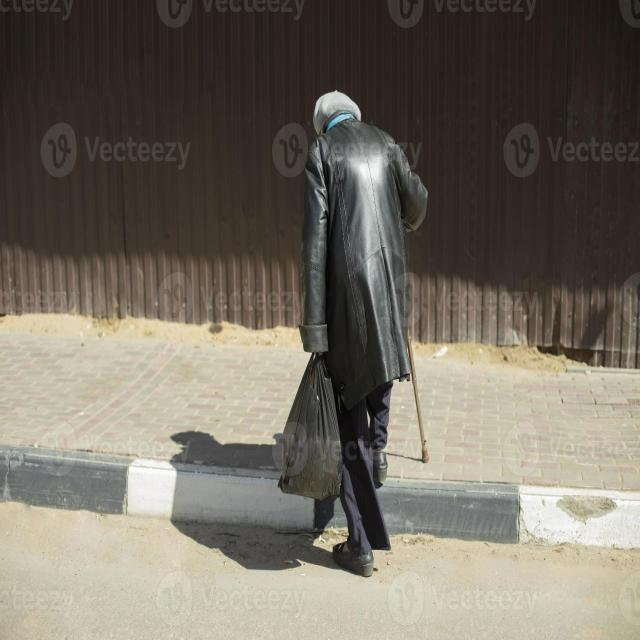idoso em pe: (288, 89, 406, 567)
